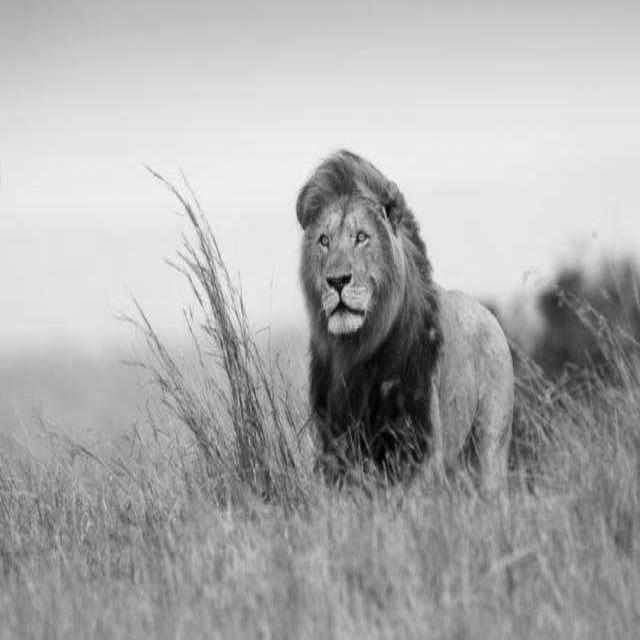Lion: (261, 99, 526, 514)
